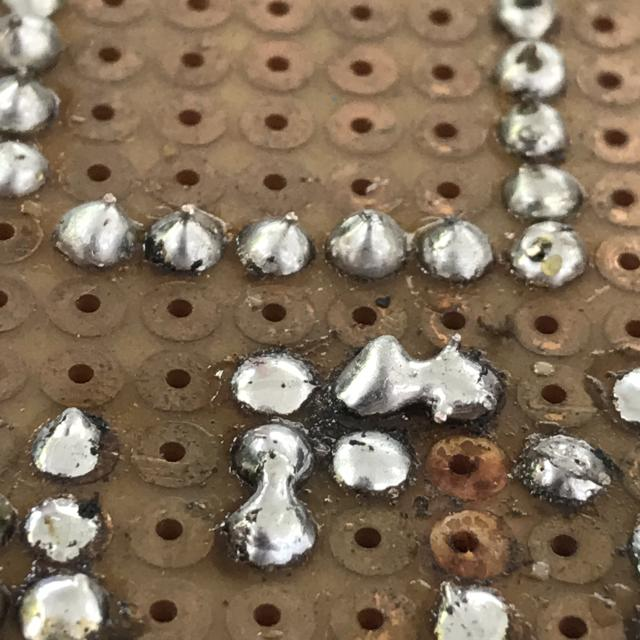bridge: (331, 328, 502, 427), (223, 418, 319, 574)
